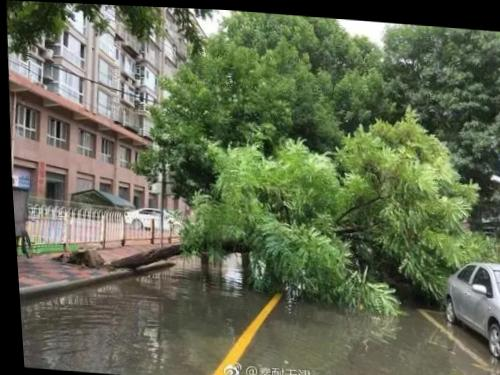Downstairs: (98, 96, 486, 307)
